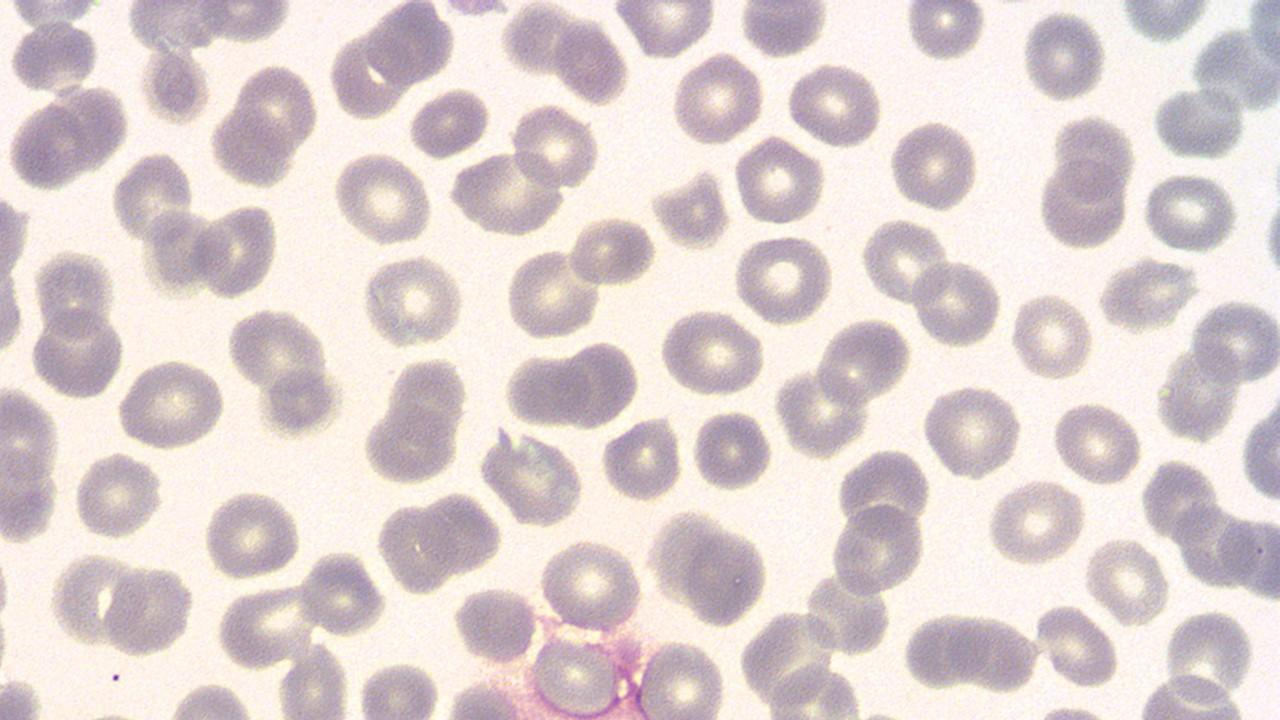RBC: (476, 426, 586, 528), (115, 357, 228, 450), (537, 538, 645, 634), (918, 382, 1022, 480), (448, 150, 566, 236), (361, 252, 464, 350), (334, 149, 434, 247), (731, 232, 835, 326), (658, 306, 766, 396), (1035, 155, 1131, 252), (830, 504, 930, 597), (202, 488, 301, 580), (29, 305, 125, 399), (505, 246, 599, 342), (670, 49, 763, 146), (834, 448, 932, 540), (986, 478, 1086, 567), (102, 560, 192, 658), (684, 525, 768, 629), (731, 134, 825, 226), (786, 60, 882, 150), (888, 117, 978, 213), (1154, 344, 1240, 443), (361, 400, 459, 486), (194, 200, 278, 300), (858, 216, 950, 307), (72, 449, 162, 542), (1021, 7, 1107, 103), (507, 102, 600, 190), (1050, 398, 1142, 486), (112, 149, 194, 247), (1008, 289, 1094, 382), (1141, 171, 1239, 252), (911, 258, 1001, 346), (1084, 536, 1172, 625), (416, 487, 502, 578), (1190, 298, 1280, 384), (560, 337, 640, 429), (636, 638, 727, 718), (900, 610, 990, 690), (603, 414, 683, 503), (454, 582, 537, 667), (1035, 602, 1117, 688), (1148, 89, 1246, 160), (691, 407, 771, 493), (566, 213, 658, 287), (505, 349, 590, 429), (552, 16, 628, 105), (408, 85, 490, 160), (0, 384, 60, 485), (738, 0, 828, 60), (357, 657, 442, 719), (903, 1, 985, 64), (1240, 388, 1280, 510)
